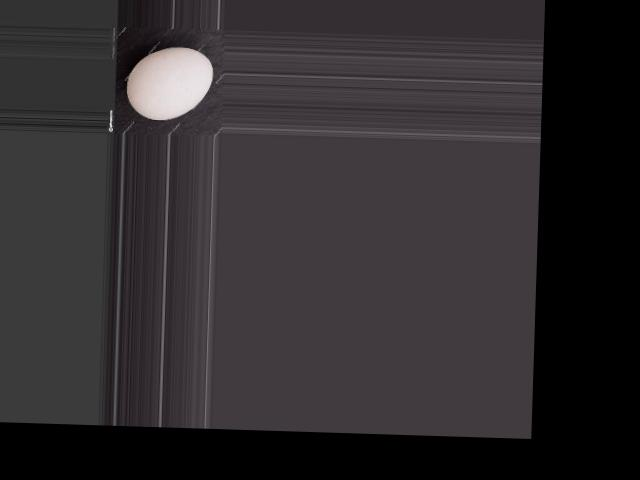egg: (125, 45, 213, 121)
